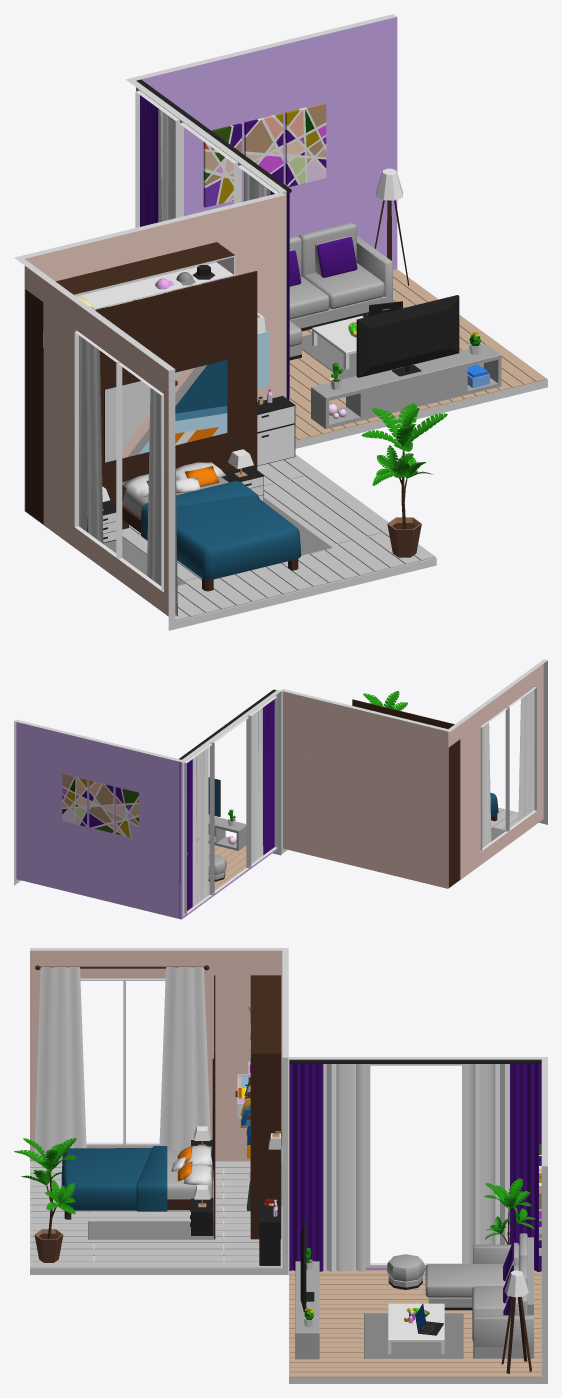
The model's file is apartment.glb.
3 renders of one model, top to bottom at view 1: azimuth 30°, elevation 25°; view 2: azimuth 150°, elevation 25°; view 3: azimuth 270°, elevation 25°, orthographic. The views are drawn at different scales.
Visible parts, largest first — view 1: A2_room_8_bedroom_walls.001, A2_room_9_relaxation_walls.001, A2_room_8_bedroom_mirror.001, A2_room_8_bedroom_bed.001, A2_room_8_bedroom_case.001, A2_room_9_relaxation_sofa.001, A2_room_9_relaxation_picture.001, A2_room_8_bedroom_drapes.001, A2_room_9_relaxation_bedside table.001, A2_room_9_relaxation_draps.001, A2_room_9_relaxation_tv.001, A2_room_9_relaxation_parquet.001 (+6 smaller); view 2: A2_room_8_bedroom_walls.001, A2_room_9_relaxation_walls.001, A2_room_9_relaxation_draps.001, A2_room_9_relaxation_picture.001, A2_room_8_bedroom_drapes.001, A2_room_8_bedroom_case.001, A2_room_9_relaxation_bedside table.001, A2_room_9_relaxation_parquet.001, A2_room_8_bedroom_mirror.001, A2_room_8_bedroom_tree.001, A2_room_9_relaxation_padded stool.001, A2_room_9_relaxation_tv.001; view 3: A2_room_8_bedroom_walls.001, A2_room_9_relaxation_draps.001, A2_room_8_bedroom_drapes.001, A2_room_9_relaxation_parquet.001, A2_room_8_bedroom_bed.001, A2_room_9_relaxation_sofa.001, A2_room_8_bedroom_case.001, A2_room_9_relaxation_walls.001, A2_room_9_relaxation_rug.001, A2_room_8_bedroom_tree.001, A2_room_8_bedroom_bed_rug.001, A2_room_9_relaxation_bedside table.001 (+8 smaller).
Part boxes in pixels (x1=…): A2_room_8_bedroom_walls.001: x1=14, y1=192, x2=436, y2=630; A2_room_9_relaxation_walls.001: x1=125, y1=14, x2=547, y2=448; A2_room_8_bedroom_mirror.001: x1=95, y1=271, x2=257, y2=507; A2_room_8_bedroom_bed.001: x1=122, y1=462, x2=301, y2=591; A2_room_8_bedroom_case.001: x1=25, y1=242, x2=235, y2=524; A2_room_9_relaxation_sofa.001: x1=289, y1=222, x2=392, y2=360; A2_room_9_relaxation_picture.001: x1=203, y1=103, x2=326, y2=207; A2_room_8_bedroom_drapes.001: x1=79, y1=335, x2=177, y2=616; A2_room_9_relaxation_bedside table.001: x1=311, y1=344, x2=501, y2=428; A2_room_9_relaxation_draps.001: x1=136, y1=79, x2=291, y2=399; A2_room_9_relaxation_tv.001: x1=356, y1=295, x2=459, y2=377; A2_room_9_relaxation_parquet.001: x1=289, y1=269, x2=546, y2=440; A2_room_8_bedroom_walls.001: x1=280, y1=659, x2=547, y2=888; A2_room_9_relaxation_walls.001: x1=14, y1=690, x2=281, y2=919; A2_room_9_relaxation_draps.001: x1=179, y1=689, x2=276, y2=918; A2_room_9_relaxation_picture.001: x1=62, y1=774, x2=138, y2=839; A2_room_8_bedroom_drapes.001: x1=482, y1=689, x2=534, y2=847; A2_room_8_bedroom_case.001: x1=448, y1=739, x2=460, y2=887; A2_room_9_relaxation_bedside table.001: x1=208, y1=815, x2=246, y2=850; A2_room_9_relaxation_parquet.001: x1=208, y1=844, x2=246, y2=894; A2_room_8_bedroom_mirror.001: x1=352, y1=699, x2=454, y2=728; A2_room_8_bedroom_tree.001: x1=363, y1=691, x2=407, y2=710; A2_room_9_relaxation_padded stool.001: x1=208, y1=855, x2=226, y2=881; A2_room_9_relaxation_tv.001: x1=208, y1=777, x2=220, y2=816; A2_room_8_bedroom_walls.001: x1=30, y1=948, x2=288, y2=1274; A2_room_9_relaxation_draps.001: x1=289, y1=1059, x2=541, y2=1272; A2_room_8_bedroom_drapes.001: x1=34, y1=965, x2=210, y2=1163; A2_room_9_relaxation_parquet.001: x1=289, y1=1270, x2=540, y2=1377; A2_room_8_bedroom_bed.001: x1=61, y1=1145, x2=213, y2=1219; A2_room_9_relaxation_sofa.001: x1=425, y1=1233, x2=533, y2=1358; A2_room_8_bedroom_case.001: x1=235, y1=975, x2=281, y2=1239; A2_room_9_relaxation_walls.001: x1=289, y1=1057, x2=547, y2=1383; A2_room_9_relaxation_rug.001: x1=364, y1=1313, x2=463, y2=1358; A2_room_8_bedroom_tree.001: x1=14, y1=1138, x2=76, y2=1262; A2_room_8_bedroom_bed_rug.001: x1=88, y1=1170, x2=213, y2=1239; A2_room_9_relaxation_bedside table.001: x1=295, y1=1261, x2=319, y2=1359.
Size of the model in its own units: 7.97 by 3.71 by 8.25.
Materials: 1 (1 with a texture image).
